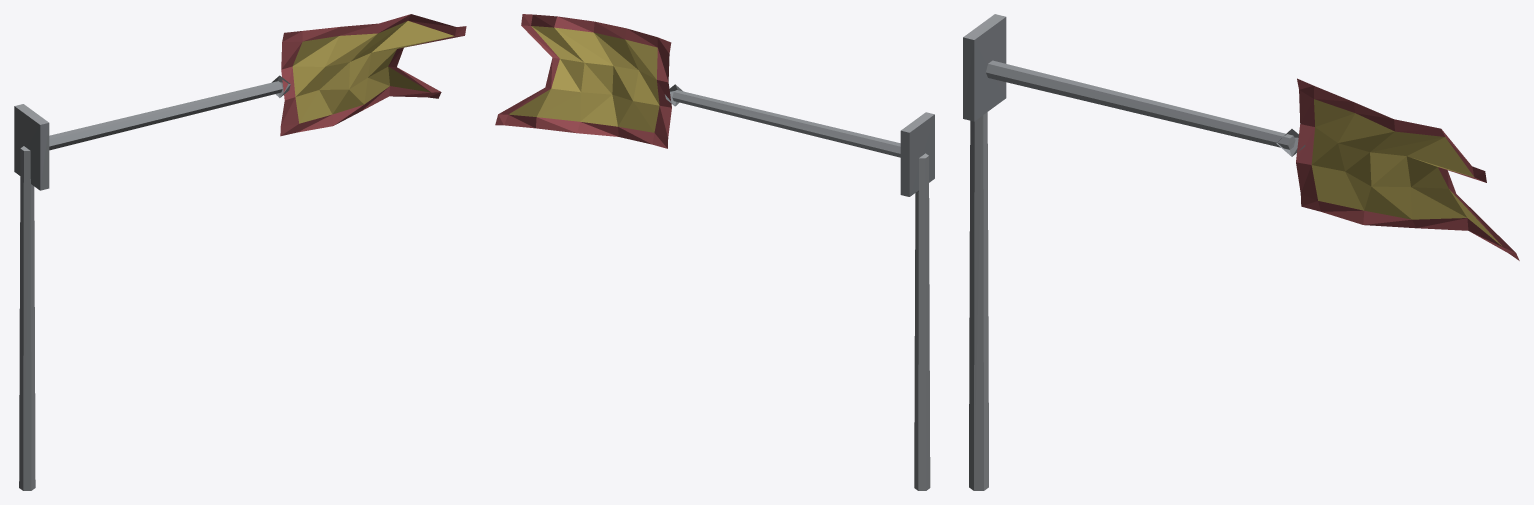
File: flag.swallowtail.jinyan__pole.horizontal.big__armFly.glb
3 views of the same model, side by side, from view 1: azimuth 30°, elevation 25°; view 2: azimuth 150°, elevation 25°; view 3: azimuth 330°, elevation 25° (orthographic). The views are drawn at different scales.
Parts seen in each view (by area): view 1: flag.swallowtail.jinyan; view 2: flag.swallowtail.jinyan; view 3: flag.swallowtail.jinyan.
Part boxes in pixels (<box>): flag.swallowtail.jinyan: <box>14,14,466,490</box>; flag.swallowtail.jinyan: <box>495,14,934,490</box>; flag.swallowtail.jinyan: <box>963,14,1519,490</box>.
Size of the model in its own units: 4.24 by 3.7 by 0.5501.
